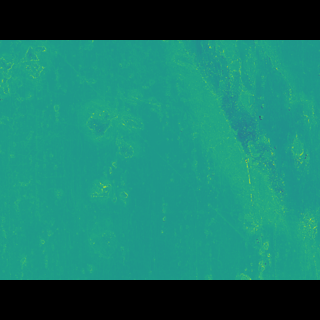Loch: (176, 71, 320, 247), (86, 118, 138, 194), (85, 213, 125, 235)
